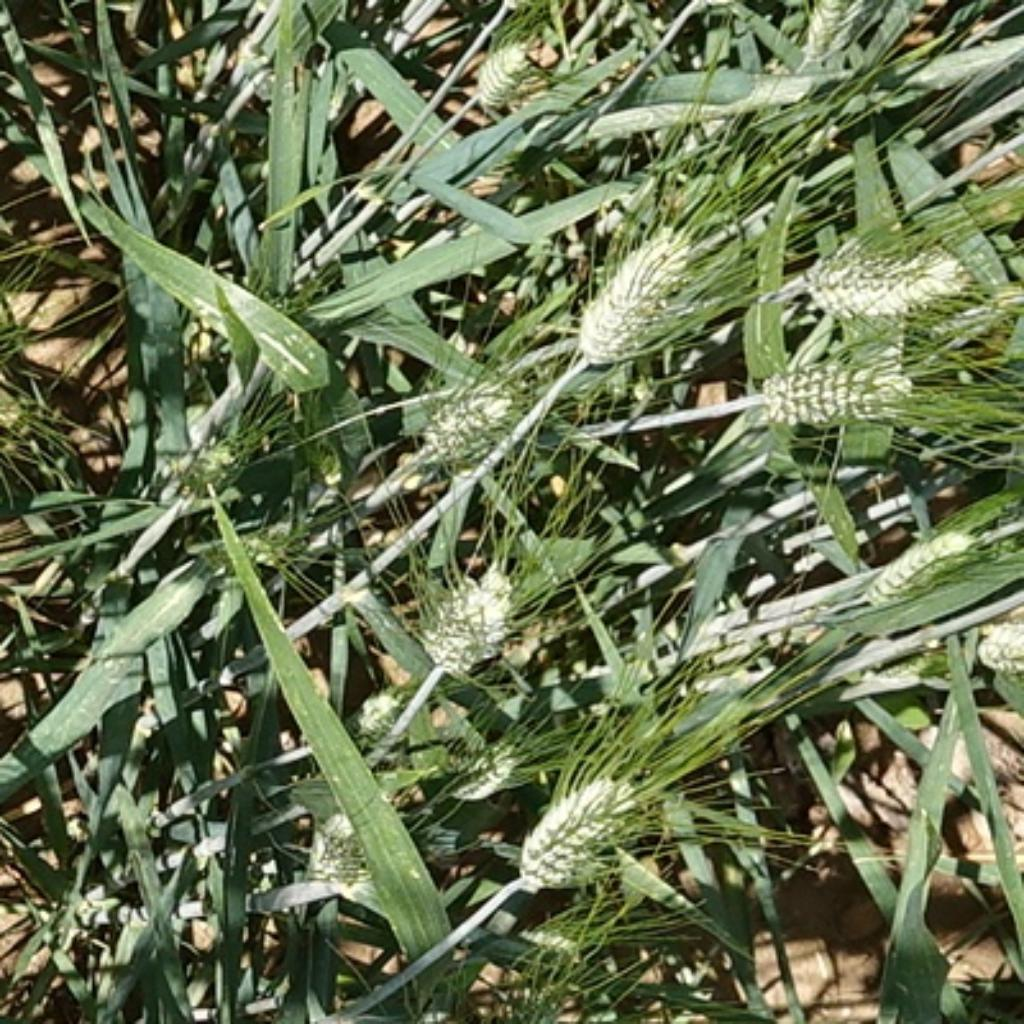0-0: (570, 228, 711, 368), (788, 240, 965, 322), (518, 772, 645, 885), (410, 351, 529, 471), (759, 347, 916, 430), (422, 561, 519, 670), (864, 525, 983, 604), (166, 408, 268, 499), (229, 513, 333, 586), (302, 803, 373, 885), (431, 747, 522, 807), (472, 32, 542, 104), (793, 2, 852, 68), (342, 687, 408, 744), (976, 622, 1024, 670)
